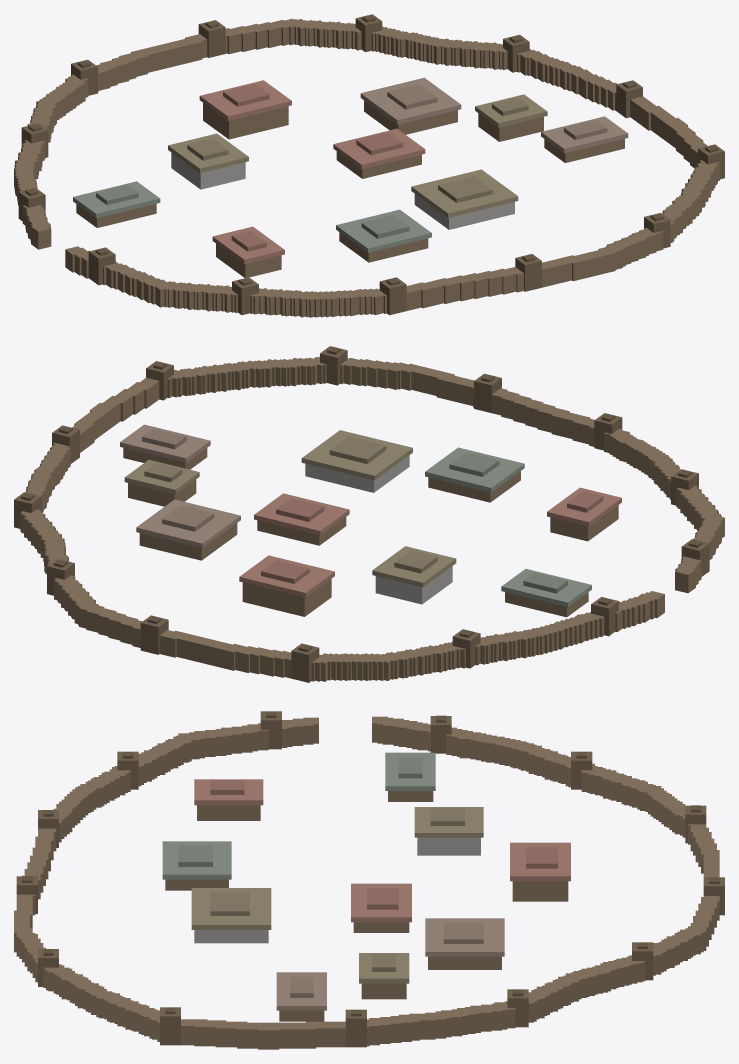
File: ciudad_guarida_bandidos_2599_120_01.glb
3 views of the same model, one above another, from view 1: azimuth 30°, elevation 25°; view 2: azimuth 150°, elevation 25°; view 3: azimuth 270°, elevation 25° (orthographic). The views are drawn at different scales.
Visible parts, largest first — view 1: ciudad_guarida_bandidos_2599_120; view 2: ciudad_guarida_bandidos_2599_120; view 3: ciudad_guarida_bandidos_2599_120.
Part boxes in pixels (box(x1,y1,x2,y2)): ciudad_guarida_bandidos_2599_120: box(14, 14, 724, 317); ciudad_guarida_bandidos_2599_120: box(14, 346, 724, 682); ciudad_guarida_bandidos_2599_120: box(14, 711, 724, 1049).
Size of the model in its own units: 70 by 3.25 by 67.
